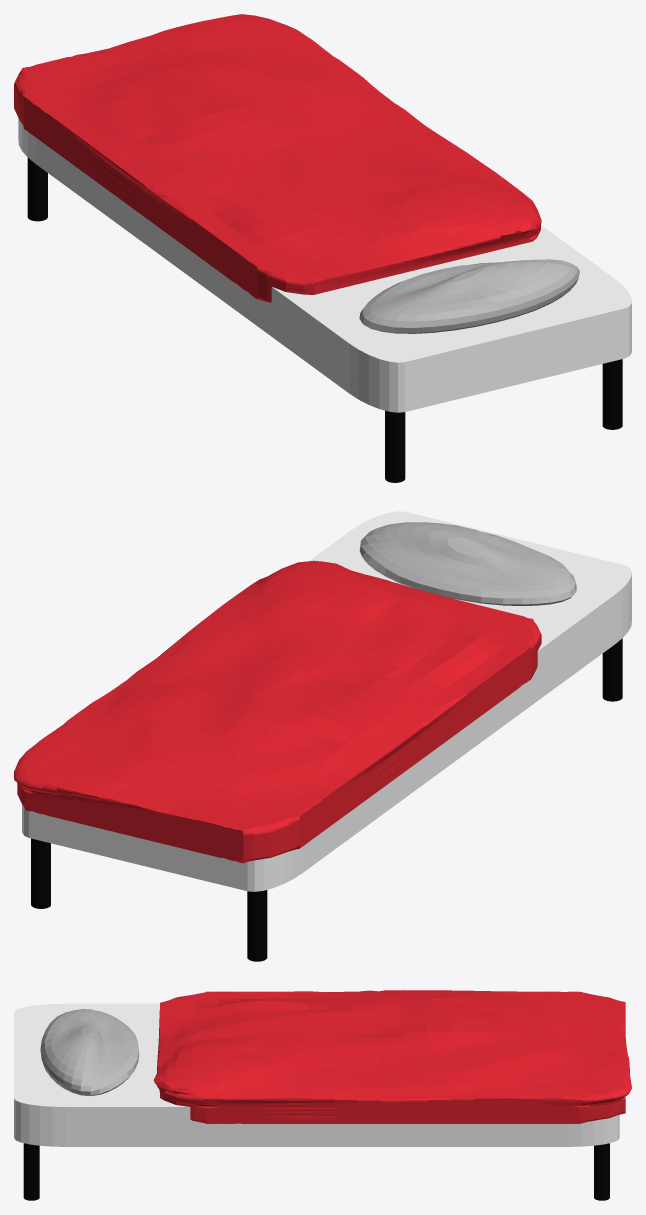
Rendered from bed.fbx.
3 renders of one model, top to bottom at view 1: azimuth 30°, elevation 25°; view 2: azimuth 150°, elevation 25°; view 3: azimuth 270°, elevation 25°, orthographic. The views are drawn at different scales.
Parts seen in each view (by area): view 1: Cube.001, Cube, Sphere, Cylinder; view 2: Cube.001, Cube, Sphere, Cylinder; view 3: Cube.001, Cube, Sphere, Cylinder.
Boxes of the visible parts, x1,y1,x2,y2 form: Cube.001: (14,14,541,302); Cube: (18,118,631,412); Sphere: (359,259,579,333); Cylinder: (27,158,622,482); Cube.001: (14,560,541,863); Cube: (22,511,631,891); Sphere: (359,522,576,605); Cylinder: (31,638,622,961); Cube.001: (153,990,631,1123); Cube: (14,1003,619,1146); Sphere: (40,1009,139,1096); Cylinder: (23,1143,609,1200).
Size of the model in its own units: 209 by 112 by 505.
